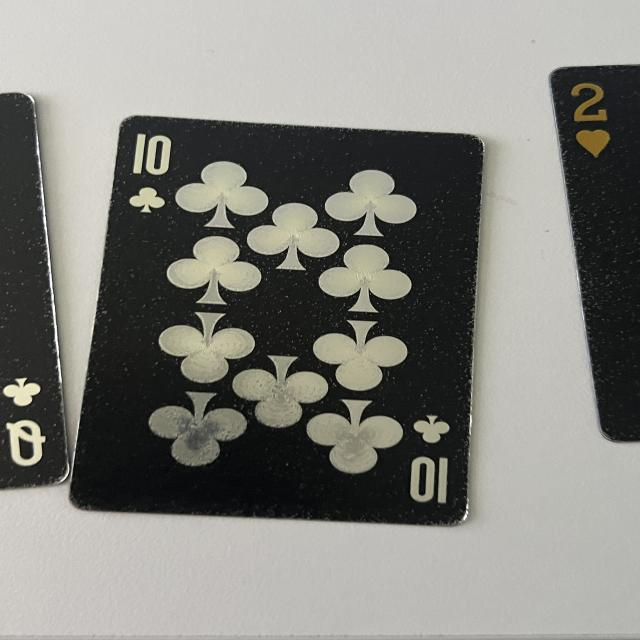10C: (403, 409, 457, 516), (113, 132, 179, 216)
2H: (556, 80, 626, 164)
QC: (0, 368, 54, 468)
